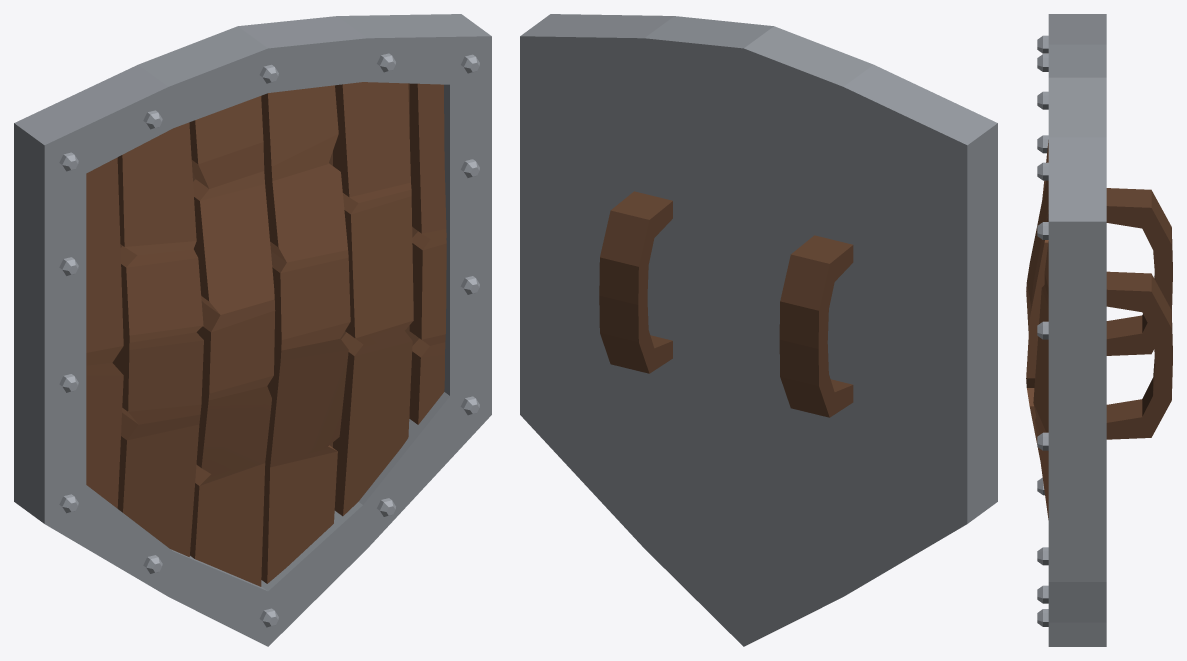
Rendered from paladin-shield-3.glb.
3 renders of one model, left to right at view 1: azimuth 30°, elevation 25°; view 2: azimuth 150°, elevation 25°; view 3: azimuth 270°, elevation 25°, orthographic. The views are drawn at different scales.
Parts seen in each view (by area): view 1: Shield_Heater_2_Cylinder.021; view 2: Shield_Heater_2_Cylinder.021; view 3: Shield_Heater_2_Cylinder.021.
Boxes of the visible parts, x1,y1,x2,y2 form: Shield_Heater_2_Cylinder.021: [14, 14, 491, 646]; Shield_Heater_2_Cylinder.021: [520, 14, 997, 646]; Shield_Heater_2_Cylinder.021: [1026, 14, 1172, 646].
Size of the model in its own units: 2.01 by 2.56 by 0.5987.
